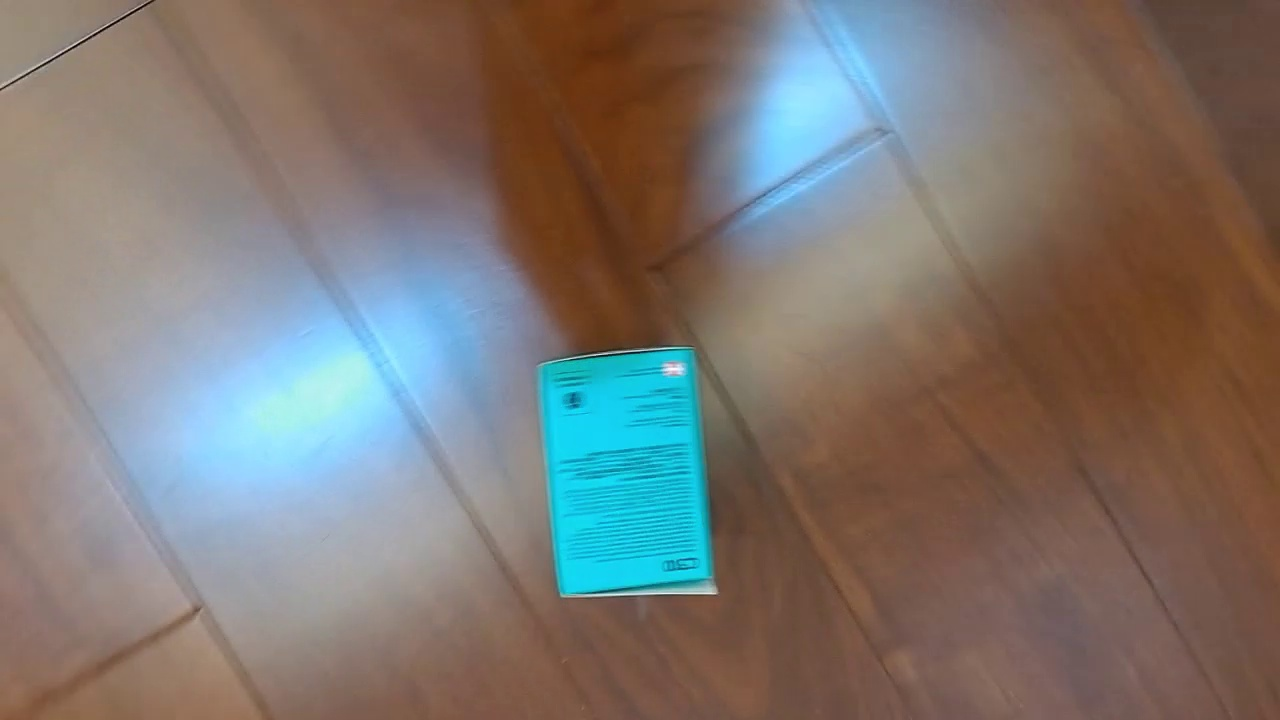webcam: (533, 344, 721, 600)
